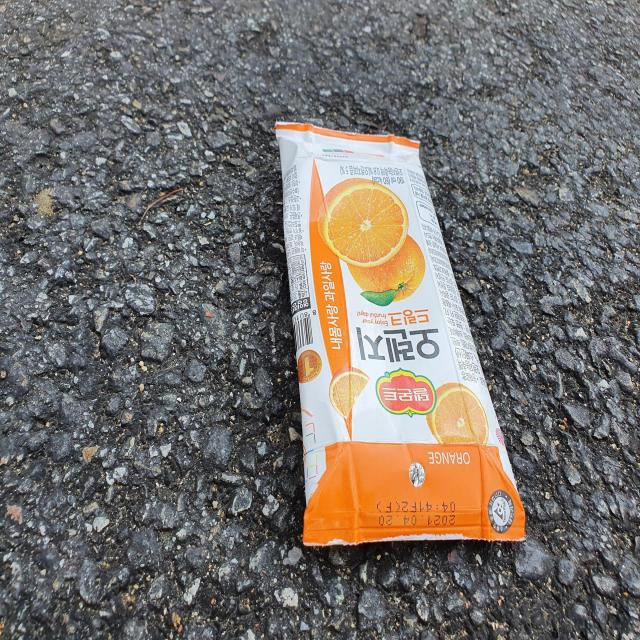paperpack: (276, 120, 526, 546)
